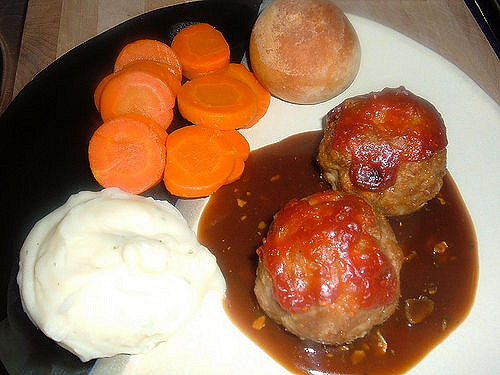meatballs: (267, 197, 393, 334), (328, 93, 439, 200)
